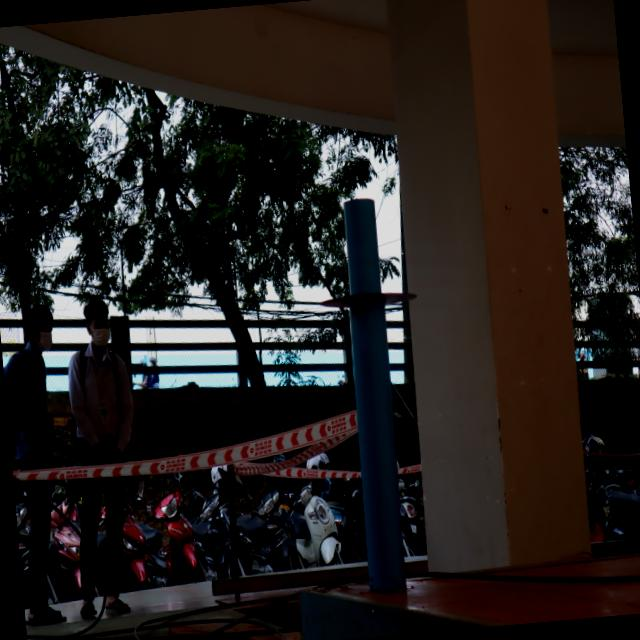pole: (295, 192, 419, 399)
